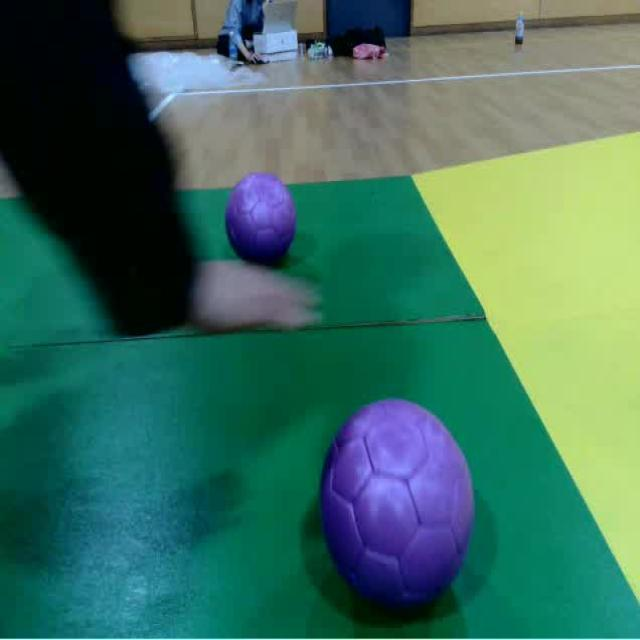purple_ball: (323, 396, 477, 613), (225, 171, 297, 272)
